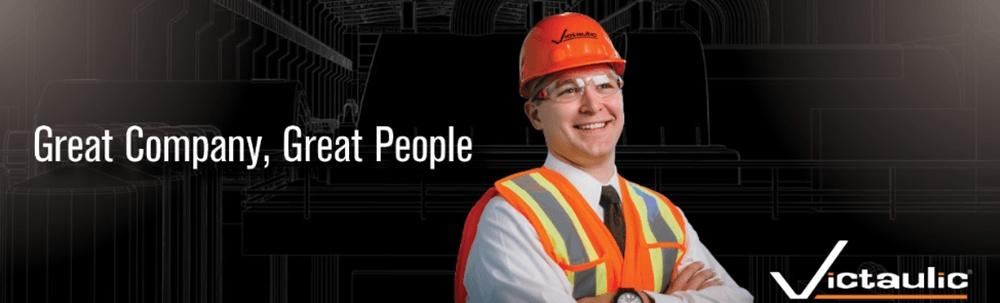helmet: (516, 10, 627, 95)
